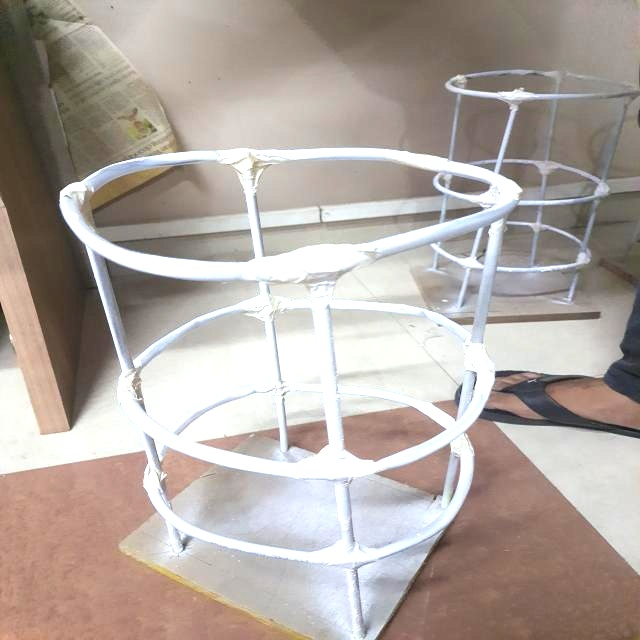silo: (52, 147, 495, 640), (436, 66, 607, 332)
